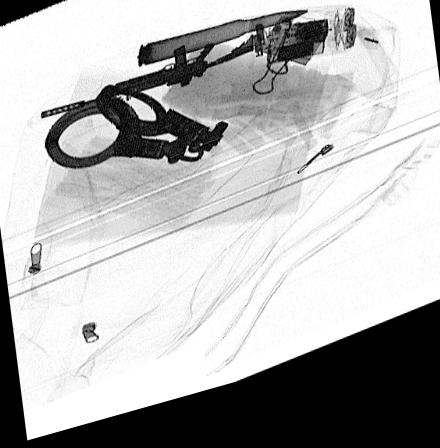Bullet: (135, 25, 309, 75)
Gun: (38, 45, 254, 120)
HandCuffs: (44, 89, 228, 173)
